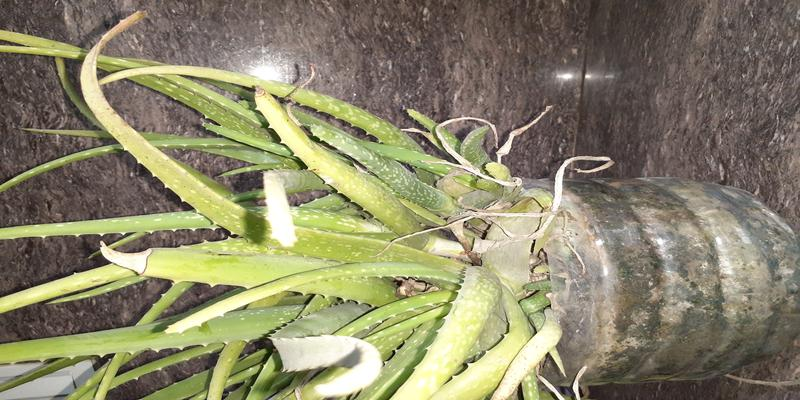Aloevera: (77, 58, 563, 393)
